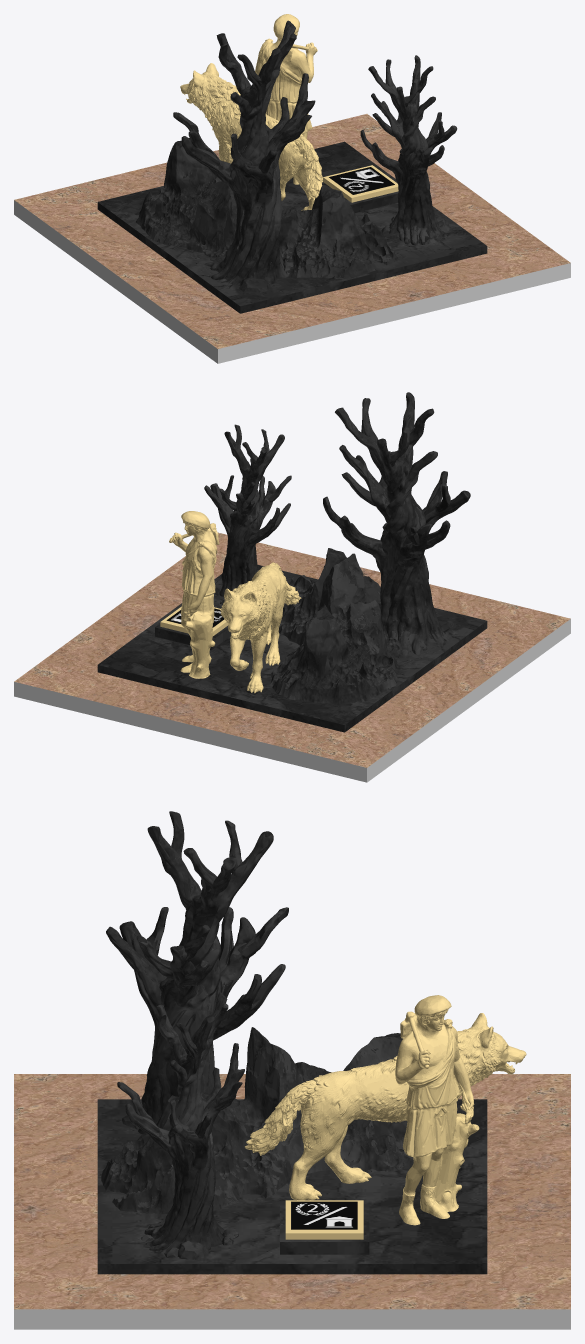
Rendered from buildingEstatuaRomulo.glb.
3 views of the same model, one above another, from view 1: azimuth 30°, elevation 25°; view 2: azimuth 150°, elevation 25°; view 3: azimuth 270°, elevation 25° (orthographic). The views are drawn at different scales.
Visible parts, largest first — view 1: EstatuaRomulo; view 2: EstatuaRomulo; view 3: EstatuaRomulo.
Part boxes in pixels (left/top/right/bottom): EstatuaRomulo: left=14, top=14, right=570, bottom=363; EstatuaRomulo: left=14, top=392, right=570, bottom=782; EstatuaRomulo: left=14, top=811, right=570, bottom=1329.
Size of the model in its own units: 5 by 3.39 by 5.
5 materials, 3 textured.
